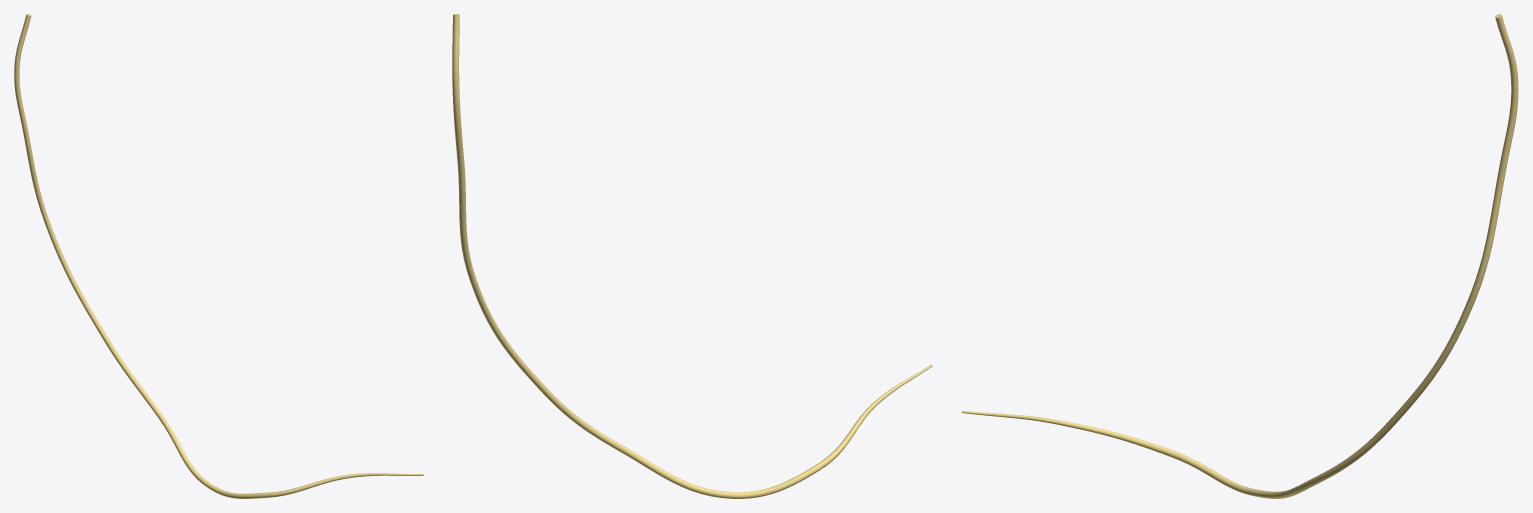
3 renders of one model, left to right at view 1: azimuth 90°, elevation 25°; view 2: azimuth 150°, elevation 25°; view 3: azimuth 270°, elevation 25°, orthographic. The views are drawn at different scales.
Parts seen in each view (by area): view 1: ZA_def5d8ef5051bd88; view 2: ZA_def5d8ef5051bd88; view 3: ZA_def5d8ef5051bd88.
Boxes of the visible parts, box(x1,y1,x2,y2) form: ZA_def5d8ef5051bd88: box(14, 14, 423, 498); ZA_def5d8ef5051bd88: box(452, 14, 932, 498); ZA_def5d8ef5051bd88: box(961, 14, 1518, 498).
Size of the model in its own units: 0.0228 by 0.0514 by 0.046.
